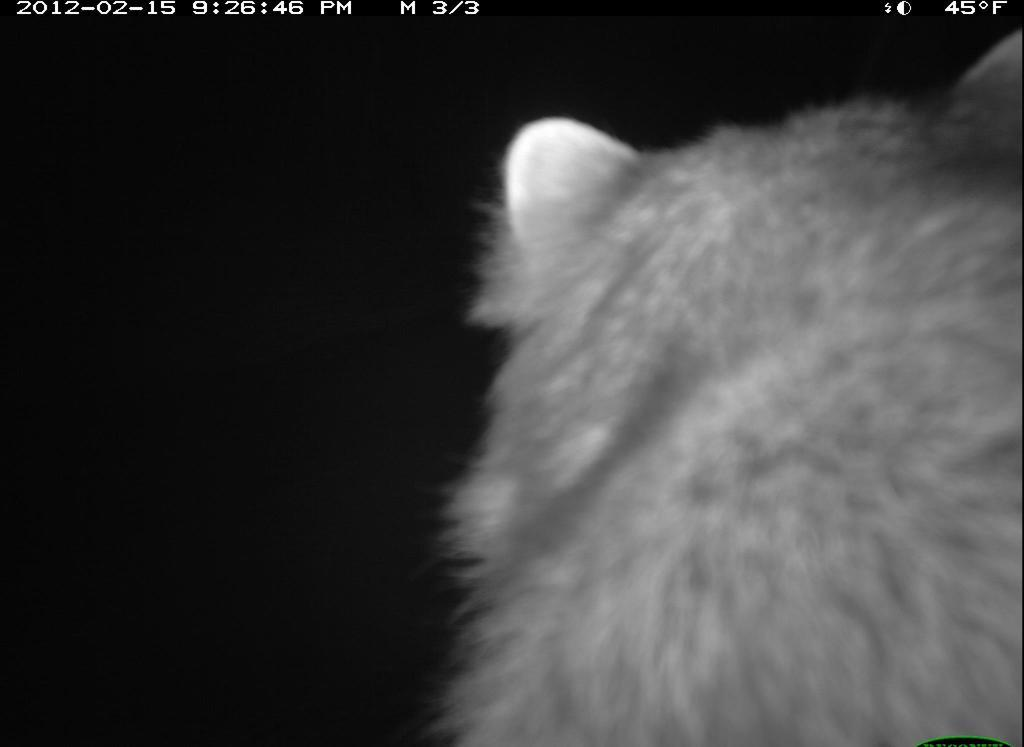raccoon: (387, 24, 1024, 747)
